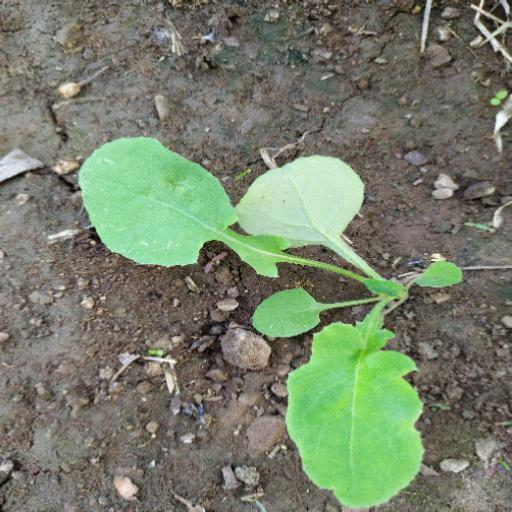weed: (75, 137, 465, 512)
